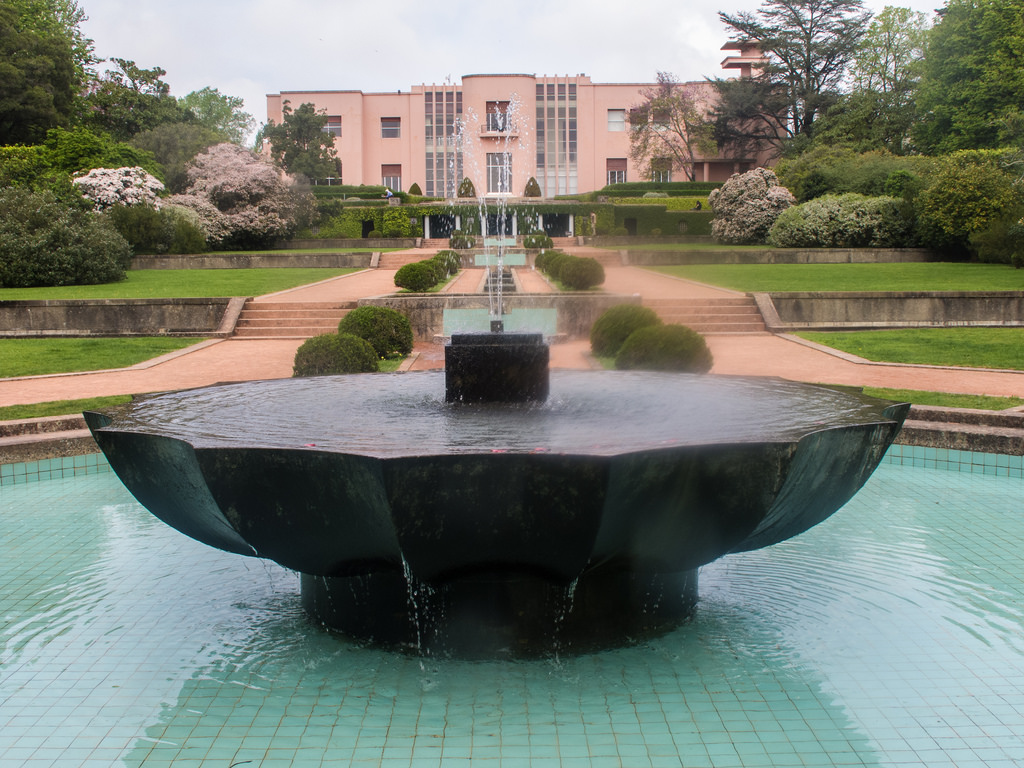serralves: (262, 34, 791, 203)
